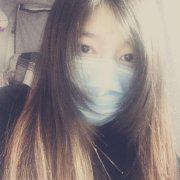OK: (58, 30, 151, 123)
